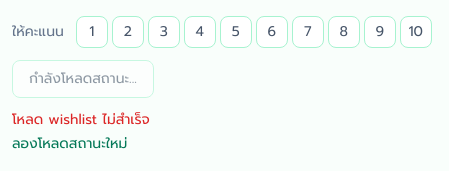
Test: โหลดสถานะเดิมไม่สำเร็จ แสดง error และให้ลองโหลดใหม่
Expected: the message reads "โหลด wishlist ไม่สำเร็จ", [12, 109, 150, 130]
Click the button "ลองโหลดสถานะใหม่".
click(70, 144)  # box [12, 134, 127, 154]
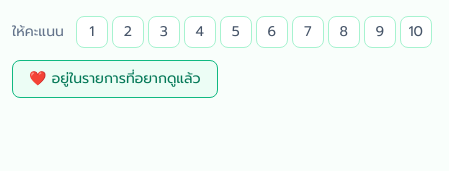
Expected: the button "❤️ อยู่ในรายการที่อยากดูแล้ว" is enabled, [12, 60, 218, 98]
